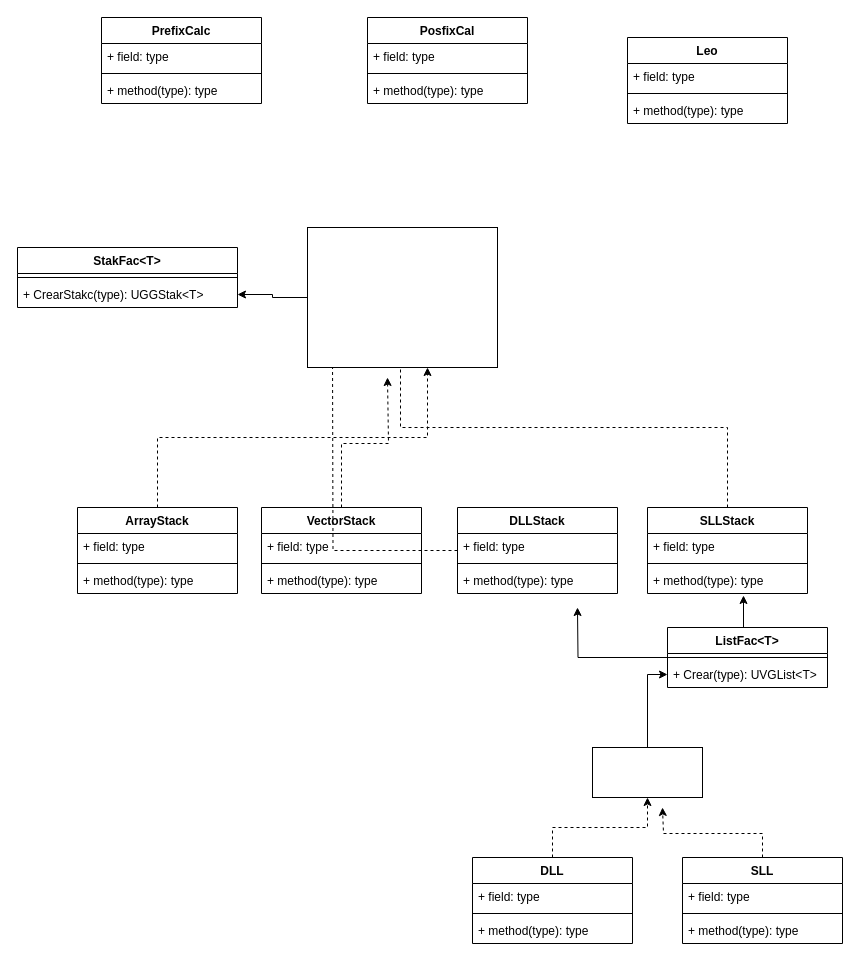
The diagram is 860 pixels wide and 964 high, and some of its shapes have lost their labels. Here are the shapes that lost their labels. From the top down, the centre of each, then its label:
At point (402, 297): "<<Interface>> UVGStak + method1(Type): Type + method2(Type, Type): Type".
At point (647, 772): "«interface» UvgList".
